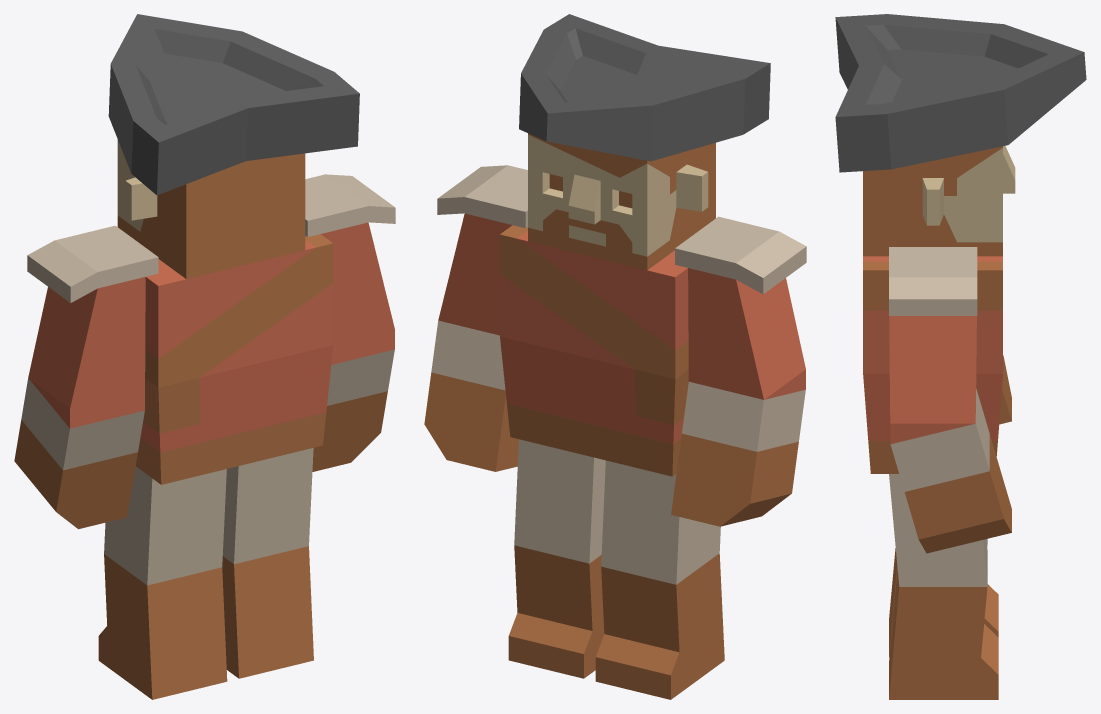
File: Pirate Captain.glb
3 views of the same model, side by side, from view 1: azimuth 30°, elevation 25°; view 2: azimuth 150°, elevation 25°; view 3: azimuth 270°, elevation 25° (orthographic).
Parts seen in each view (by area): view 1: body, armLeft, Group 122.001, legLeft, legRight, armRight, Group 122; view 2: body, armLeft, Group 122.001, legLeft, armRight, legRight, Group 122; view 3: Group 122.001, armRight, legRight, Group 122, body, legLeft, armLeft.
Boxes of the visible parts, x1,y1,x2,y2 form: body: (136,234,333,484); armLeft: (14,225,158,529); Group 122.001: (108,14,359,195); legLeft: (98,466,227,699); legRight: (222,448,313,678); armRight: (305,174,395,471); Group 122: (117,139,305,278); body: (500,225,688,476); armLeft: (671,216,806,526); Group 122.001: (519,14,770,161); legLeft: (595,460,724,699); armRight: (424,165,527,471); legRight: (508,439,605,678); Group 122: (528,133,715,270); Group 122.001: (835,14,1086,172); armRight: (889,247,1011,553); legRight: (889,474,998,699); Group 122: (863,146,1015,256); body: (863,256,1002,473); legLeft: (889,539,998,656); armLeft: (999,355,1011,424).
Size of the model in its own units: 0.6239 by 1.09 by 0.4096.
